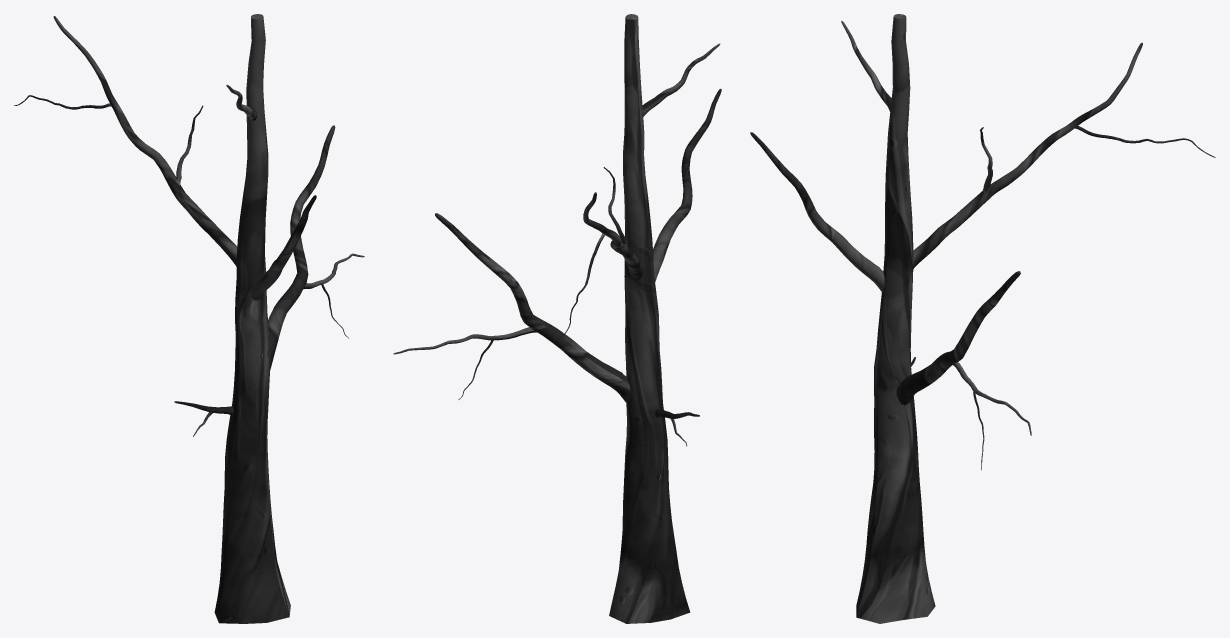
Rendered from Tree 1.fbx.
3 renders of one model, left to right at view 1: azimuth 30°, elevation 25°; view 2: azimuth 150°, elevation 25°; view 3: azimuth 270°, elevation 25°, orthographic.
Parts seen in each view (by area): view 1: polySurface8; view 2: polySurface8; view 3: polySurface8.
Boxes of the visible parts, x1=… form: polySurface8: x1=14, y1=14, x2=364, y2=623; polySurface8: x1=393, y1=14, x2=721, y2=623; polySurface8: x1=750, y1=14, x2=1215, y2=623.
Size of the model in its own units: 354 by 763 by 539.
Materials: 1 (1 with a texture image).
